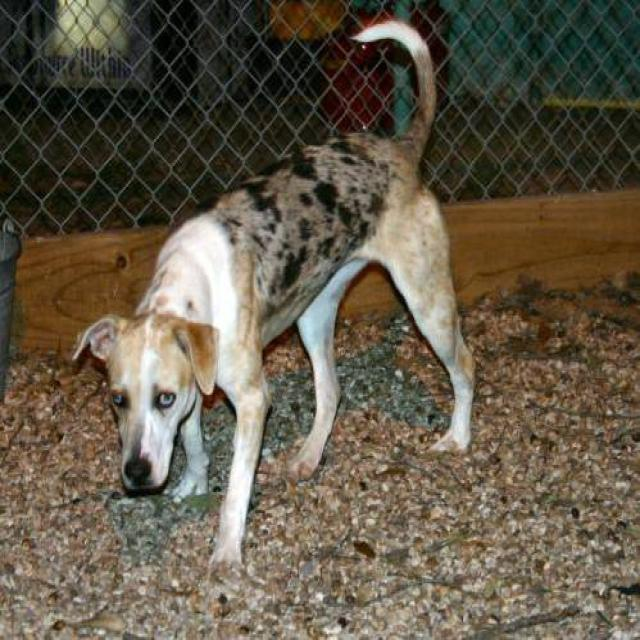dog: (69, 15, 477, 577)
